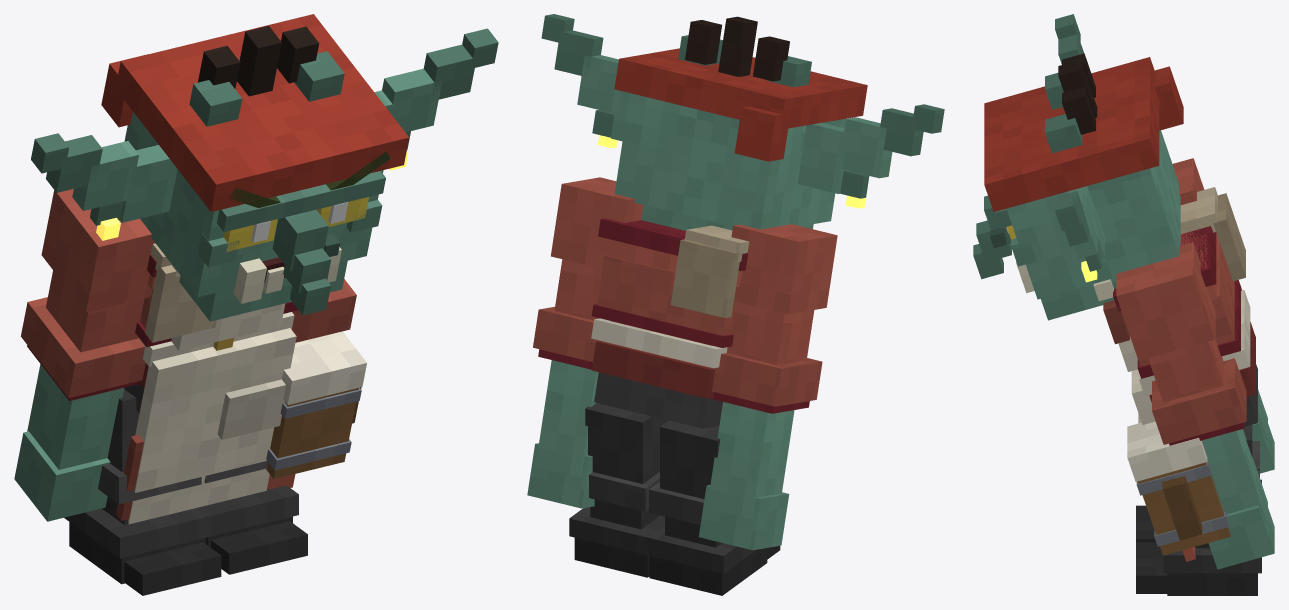
The model's file is goblin_aubergiste.glb.
The picture shows the model from 3 angles, left to right: view 1: azimuth 30°, elevation 25°; view 2: azimuth 150°, elevation 25°; view 3: azimuth 270°, elevation 25°; orthographic projection. The views are drawn at different scales.
Parts seen in each view (by area): view 1: Head, Torso, ArmR, LegR, HandL, LegL, ArmL; view 2: Head, ArmR, Torso, ArmL, LegL, LegR; view 3: Head, ArmL, Torso, HandL, LegL, ArmR, LegR.
Boxes of the visible parts, box(x1,y1,x2,y2) form: Head: box(31, 14, 498, 321); Torso: box(116, 243, 297, 524); ArmR: box(14, 189, 155, 521); LegR: box(64, 389, 221, 595); HandL: box(266, 331, 366, 478); LegL: box(195, 461, 307, 574); ArmL: box(291, 279, 356, 342); Head: box(541, 14, 944, 230); ArmR: box(698, 224, 837, 550); Torso: box(591, 218, 749, 428); ArmL: box(527, 177, 643, 508); LegL: box(569, 403, 668, 577); LegR: box(644, 420, 780, 595); Head: box(973, 14, 1183, 320); ArmL: box(1116, 242, 1274, 569); Torso: box(1093, 187, 1257, 561); HandL: box(1127, 421, 1230, 555); LegL: box(1136, 425, 1261, 595); ArmR: box(1172, 158, 1274, 473); LegR: box(1136, 441, 1261, 542).
Bounding box in the file's own units: 1.09 × 1.32 × 0.727.
45 materials, 45 textured.
